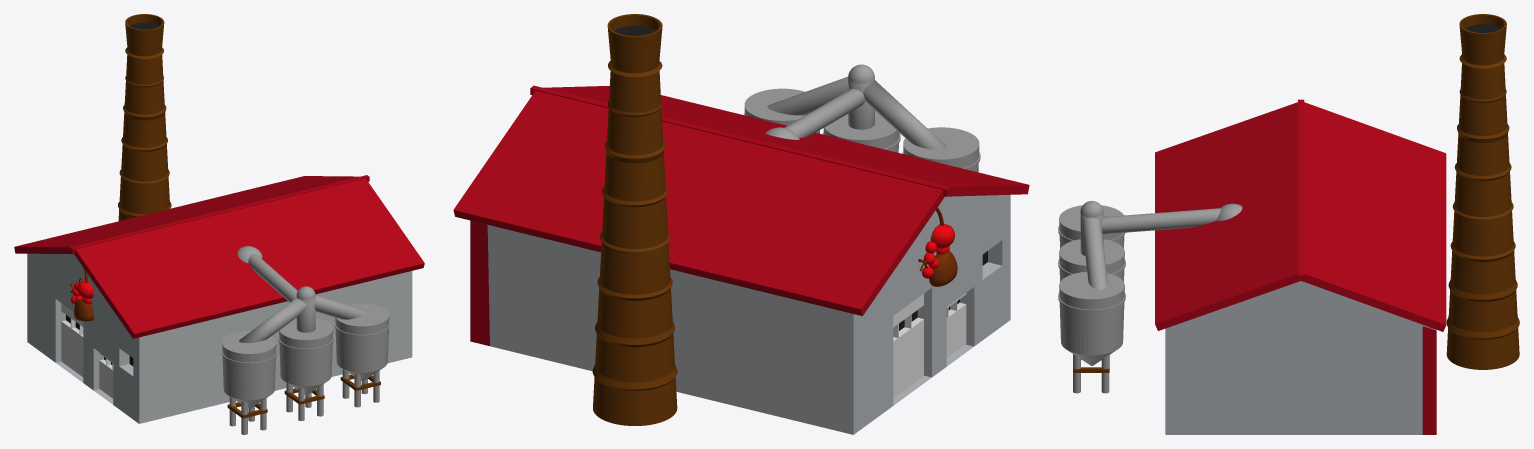
Rendered from dr.repip2.fbx.
3 renders of one model, left to right at view 1: azimuth 30°, elevation 25°; view 2: azimuth 150°, elevation 25°; view 3: azimuth 270°, elevation 25°, orthographic. The views are drawn at different scales.
Parts seen in each view (by area): view 1: Cube.001, Cube, Cylinder, Cube.012, Cylinder.030, Cylinder.010, Cylinder.001, Cylinder.013, Cube.015, Cube.014, Cylinder.011, Cube.017 (+1 smaller); view 2: Cube, Cube.012, Cylinder, Cube.001, Cylinder.013, Cube.015, Cube.011, Cylinder.030, Cube.014, Cylinder.001, Cylinder.011, Cylinder.010 (+3 smaller); view 3: Cube, Cube.012, Cube.001, Cylinder, Cylinder.010, Cylinder.011, Cube.011, Cylinder.001, Cylinder.013, Cube.014, Cylinder.030.
Part boxes in pixels (x1,y1,x2,y2): Cube.001: (74, 178, 424, 338); Cube: (27, 253, 412, 423); Cylinder: (118, 14, 171, 220); Cube.012: (14, 176, 359, 254); Cylinder.030: (221, 331, 277, 408); Cylinder.010: (334, 303, 390, 381); Cylinder.001: (278, 318, 333, 395); Cylinder.013: (239, 295, 366, 342); Cube.015: (61, 303, 83, 376); Cube.014: (70, 175, 369, 253); Cylinder.011: (248, 254, 297, 302); Cube.017: (99, 352, 113, 398); Cube: (487, 194, 1010, 434); Cube.012: (453, 90, 945, 315); Cylinder: (592, 14, 677, 425); Cube.001: (543, 86, 1029, 196); Cylinder.013: (767, 76, 946, 150); Cube.015: (893, 294, 923, 397); Cube.011: (470, 220, 489, 346); Cylinder.030: (902, 127, 980, 172); Cube.014: (530, 85, 950, 196); Cylinder.001: (822, 110, 900, 152); Cylinder.011: (784, 88, 865, 137); Cylinder.010: (743, 88, 819, 133); Cube: (1165, 281, 1436, 434); Cube.012: (1302, 102, 1446, 331); Cube.001: (1155, 102, 1299, 330); Cylinder: (1446, 14, 1519, 369); Cylinder.010: (1058, 271, 1125, 365); Cylinder.011: (1101, 208, 1220, 234); Cube.011: (1422, 326, 1436, 434); Cylinder.001: (1058, 239, 1125, 281); Cylinder.013: (1081, 215, 1107, 289); Cube.014: (1298, 99, 1304, 280); Cylinder.030: (1058, 205, 1125, 248).
Bounding box in the file's own units: 2528 × 2219 × 2807.
